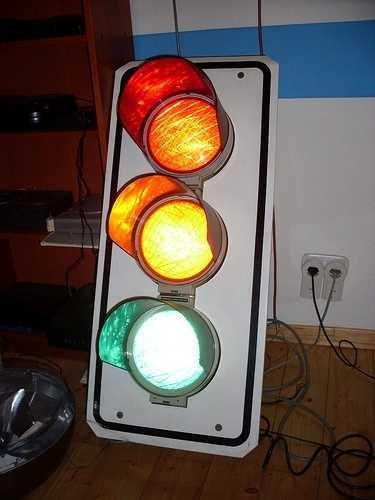9: (122, 175, 228, 285)
red traffic light: (98, 290, 221, 409)
